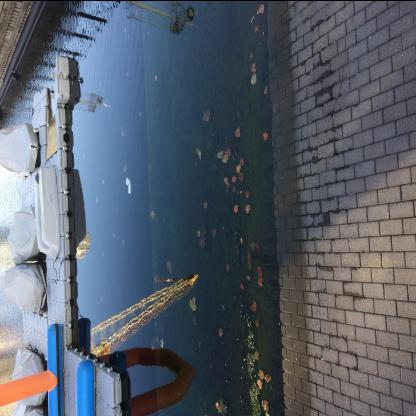kagit: (127, 177, 133, 194)
